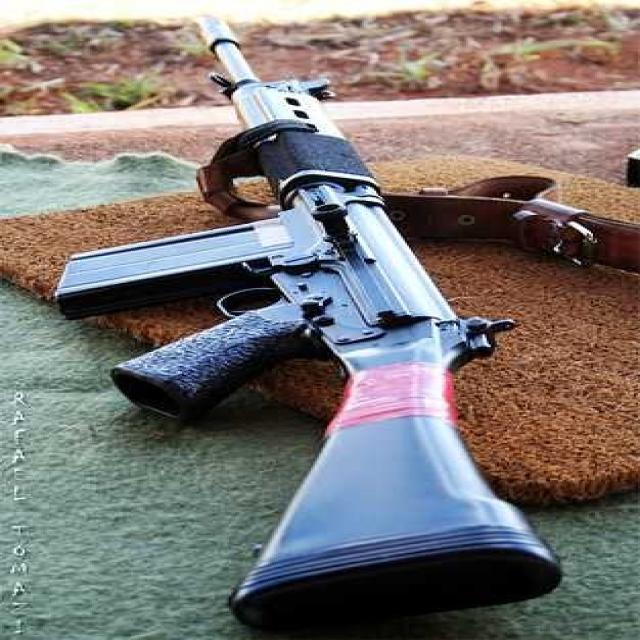heavyweapon: (52, 13, 596, 626)
